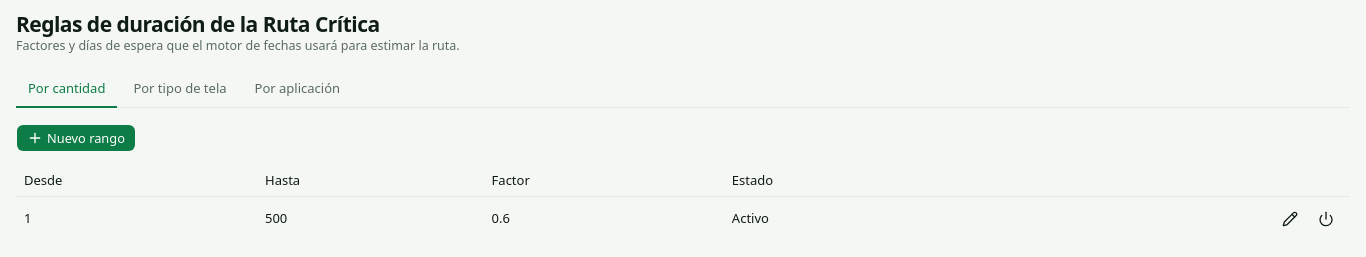
ReglasDuracionPagina › muestra la pestaña de cantidad por defecto y permite cambiar a tela y aplicación
Expected: the text "500" is shown, x1=257 y1=196 x2=484 y2=241
Expected: the button with test id "nuevo-factor" is shown, x1=16 y1=124 x2=136 y2=152
# Cambia a "Por tipo de tela".
Step 1. Click the tab with test id "tab-tela" → (180, 90), box x1=121 y1=71 x2=239 y2=108
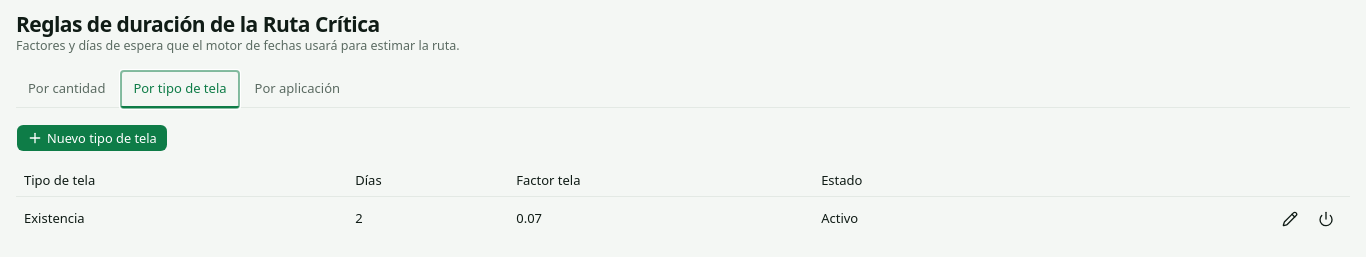
Expected: the text "Existencia" is shown, x1=16 y1=196 x2=347 y2=241
# Cambia a "Por aplicación".
Step 2. Click the tab with test id "tab-aplicacion" → (297, 90), box x1=242 y1=71 x2=352 y2=108
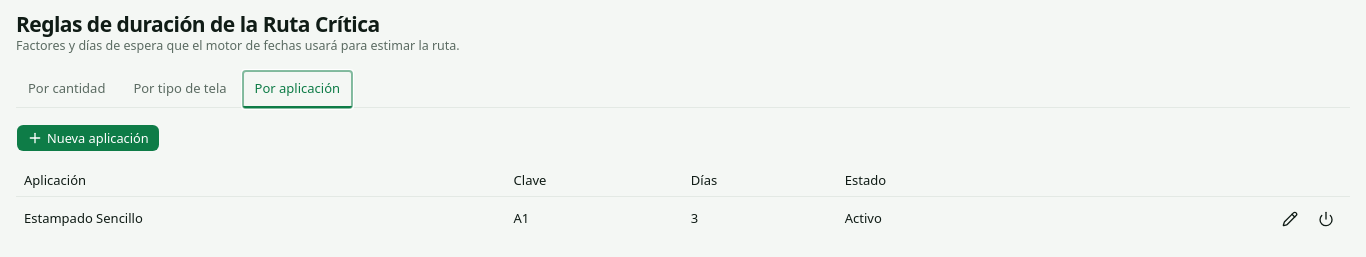
Expected: the text "Estampado Sencillo" is shown, x1=16 y1=196 x2=506 y2=241
